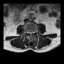CCS_stenosis: (30, 30, 32, 36)
LFS_stenosis: (33, 30, 34, 34)
LLS_normal: (32, 30, 33, 36)
RFS_stenosis: (27, 30, 29, 35)
RLS_normal: (29, 30, 30, 35)
